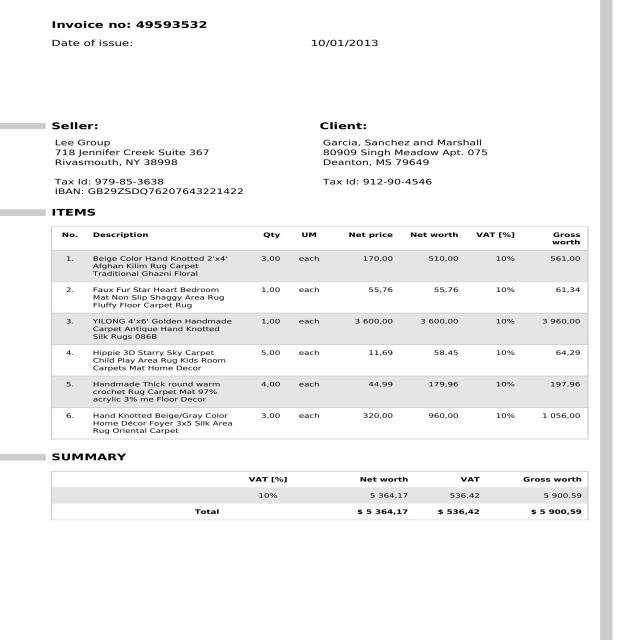customer_address: (319, 147, 502, 168)
customer_name: (314, 136, 502, 146)
invoice_date: (306, 37, 381, 49)
invoice_number: (134, 16, 213, 32)
invoice_subtotal: (346, 504, 419, 518)
invoice_total: (526, 506, 584, 518)
item_description: (86, 253, 235, 437)
item_quantity: (254, 255, 288, 430)
item_total_price: (416, 252, 468, 430)
item_unit_price: (350, 253, 399, 431)
supplier_address: (50, 147, 235, 167)
supplier_name: (51, 138, 118, 146)
tax_amount: (429, 505, 485, 517)
tax_rate: (251, 488, 284, 503)
